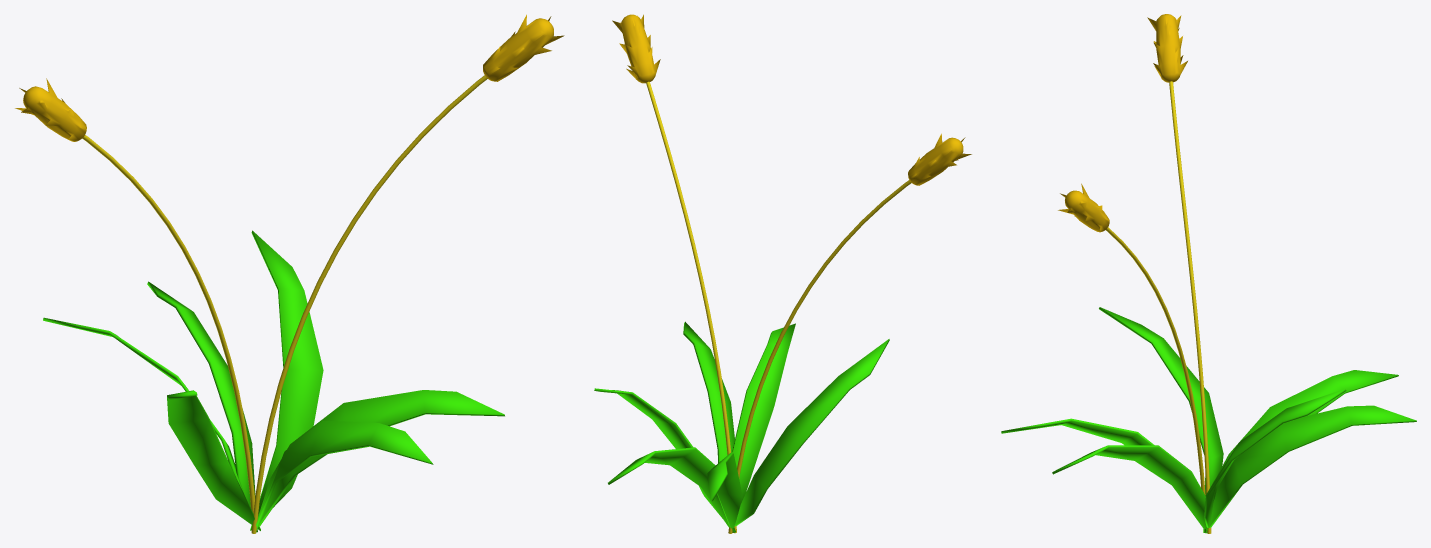
The model's file is pflanze_gras.gltf.
The picture shows the model from 3 angles, left to right: view 1: azimuth 30°, elevation 25°; view 2: azimuth 150°, elevation 25°; view 3: azimuth 270°, elevation 25°; orthographic projection. The views are drawn at different scales.
Parts seen in each view (by area): view 1: Plane.002, Plane.001; view 2: Plane.002, Plane.001; view 3: Plane.002, Plane.001.
Part boxes in pixels (x1,y1,x2,y2): Plane.002: (43,230,504,532); Plane.001: (15,14,564,533); Plane.002: (594,321,889,532); Plane.001: (612,14,971,533); Plane.002: (1001,307,1416,533); Plane.001: (1058,14,1211,533).
Size of the model in its own units: 0.3772 by 0.3906 by 0.3446.
